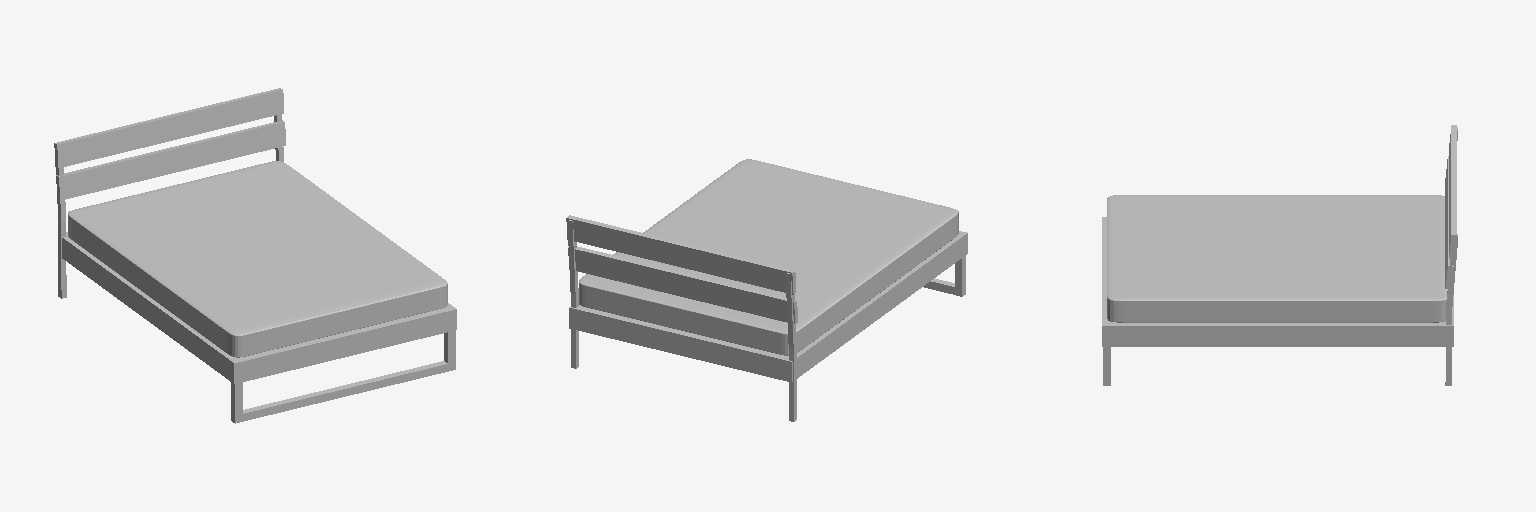
File: TRYSIL.obj
3 renders of one model, left to right at view 1: azimuth 30°, elevation 25°; view 2: azimuth 150°, elevation 25°; view 3: azimuth 270°, elevation 25°, orthographic.
Parts seen in each view (by area): view 1: Cube.005_Cube.006, Cube.002_Cube.003, Cube.008_Cube.009, Cube.009_Cube.015, Cube.003_Cube.012, Cube.007_Cube.014; view 2: Cube.005_Cube.006, Cube.002_Cube.003, Cube.008_Cube.009, Cube.009_Cube.015, Cube.007_Cube.014, Cube.006_Cube.013; view 3: Cube.005_Cube.006, Cube.002_Cube.003, Cube.008_Cube.009, Cube.006_Cube.013, Cube.009_Cube.015.
Boxes of the visible parts, x1=… form: Cube.005_Cube.006: x1=68, y1=161, x2=447, y2=357; Cube.002_Cube.003: x1=62, y1=232, x2=456, y2=383; Cube.008_Cube.009: x1=54, y1=88, x2=283, y2=167; Cube.009_Cube.015: x1=56, y1=120, x2=285, y2=200; Cube.003_Cube.012: x1=243, y1=361, x2=447, y2=421; Cube.007_Cube.014: x1=56, y1=167, x2=66, y2=298; Cube.005_Cube.006: x1=579, y1=159, x2=958, y2=355; Cube.002_Cube.003: x1=569, y1=231, x2=967, y2=382; Cube.008_Cube.009: x1=566, y1=215, x2=795, y2=294; Cube.009_Cube.015: x1=568, y1=246, x2=797, y2=324; Cube.007_Cube.014: x1=785, y1=273, x2=796, y2=421; Cube.006_Cube.013: x1=567, y1=220, x2=578, y2=368; Cube.005_Cube.006: x1=1107, y1=195, x2=1447, y2=322; Cube.002_Cube.003: x1=1102, y1=217, x2=1453, y2=346; Cube.008_Cube.009: x1=1449, y1=125, x2=1456, y2=257; Cube.006_Cube.013: x1=1445, y1=234, x2=1457, y2=385; Cube.009_Cube.015: x1=1445, y1=156, x2=1453, y2=288.
Bounding box in the file's own units: 2.99 × 1.92 × 4.08.